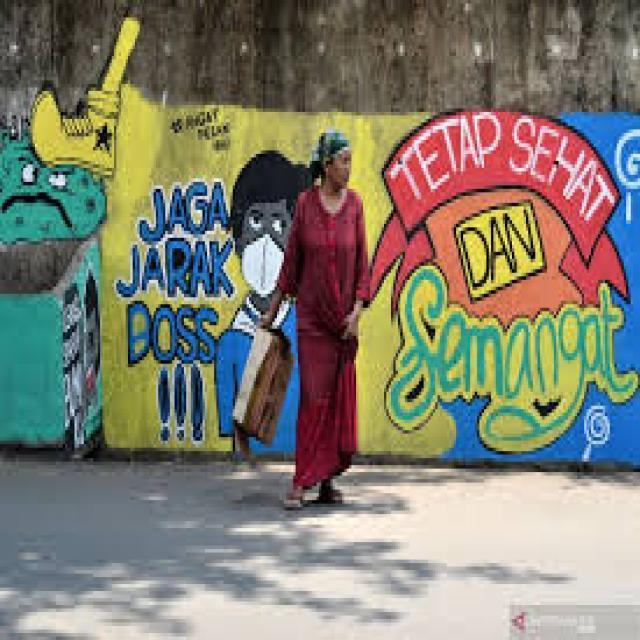-: (2, 11, 640, 472)
